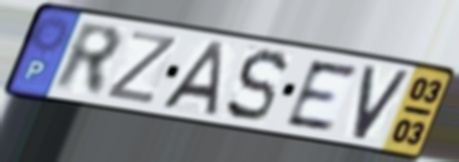A: (157, 39, 226, 117)
E: (282, 58, 361, 133)
R: (51, 18, 126, 100)
S: (223, 47, 291, 125)
V: (349, 62, 415, 143)
Z: (102, 28, 181, 107)
